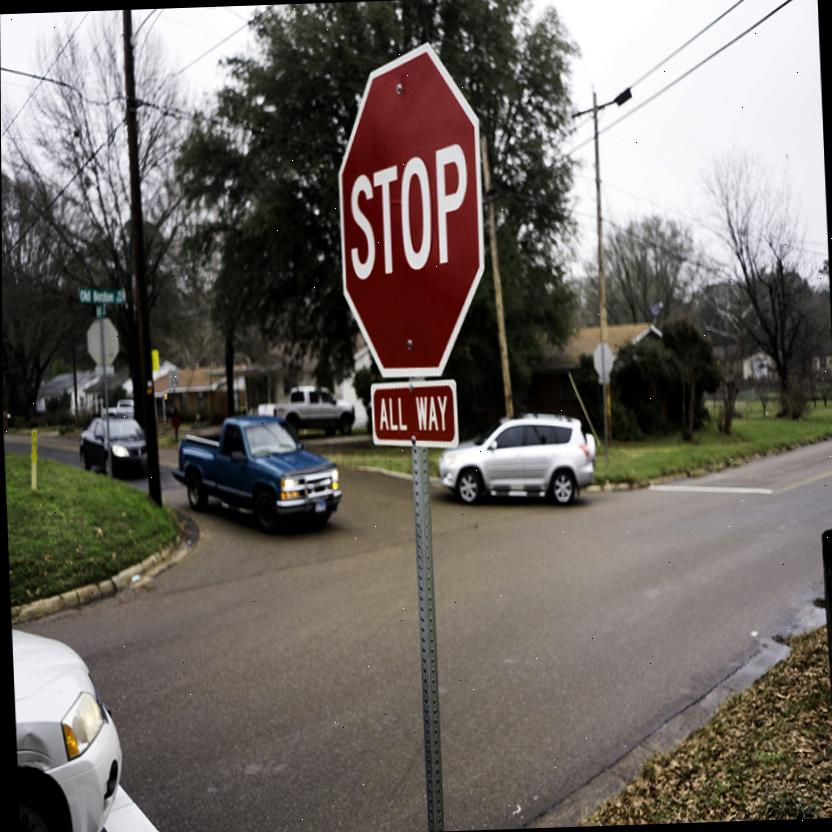Pole: (408, 445, 444, 828), (102, 376, 112, 480), (601, 384, 609, 464)
Sign: (331, 40, 489, 384), (84, 317, 120, 367), (592, 342, 614, 376)
